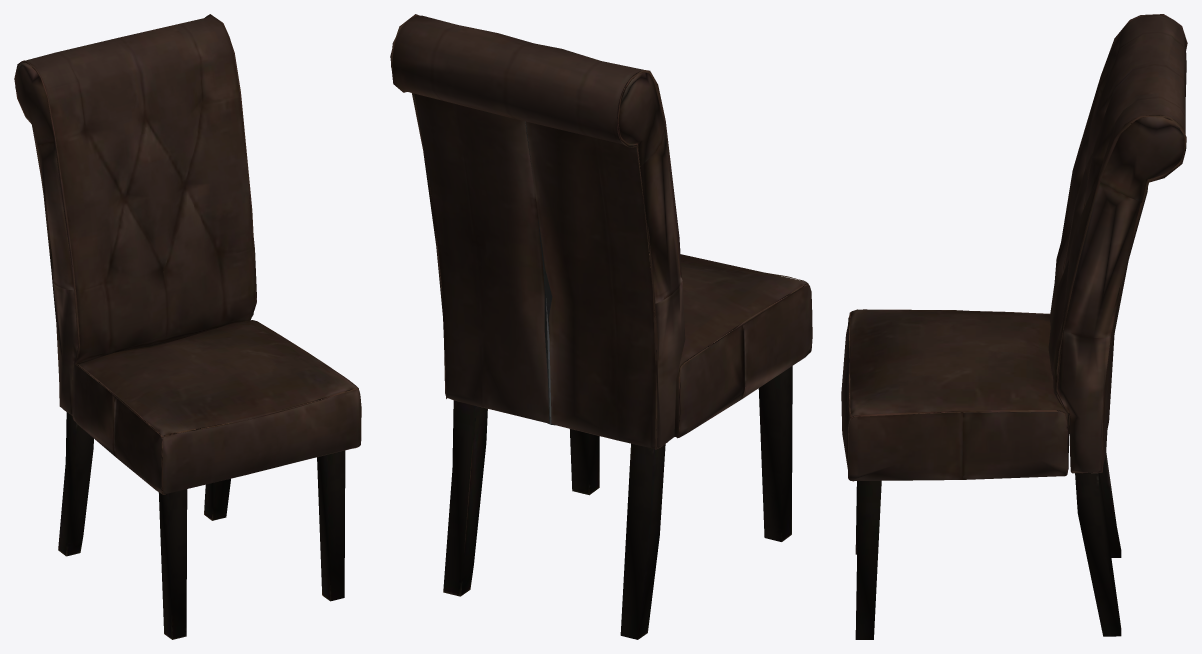
The model's file is lib_reading_chair_aaa-f3be4c85aefa.glb.
3 views of the same model, side by side, from view 1: azimuth 30°, elevation 25°; view 2: azimuth 150°, elevation 25°; view 3: azimuth 270°, elevation 25° (orthographic). The views are drawn at different scales.
Visible parts, largest first — view 1: dining_chair_02; view 2: dining_chair_02; view 3: dining_chair_02.
Part boxes in pixels (x1=…): dining_chair_02: x1=14, y1=14, x2=361, y2=639; dining_chair_02: x1=390, y1=14, x2=812, y2=639; dining_chair_02: x1=841, y1=14, x2=1187, y2=639.
Size of the model in its own units: 0.3974 by 0.8982 by 0.5329.
1 material, 1 textured.
